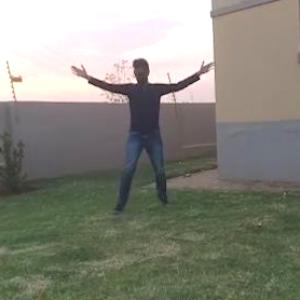takeoff: (48, 34, 198, 210)
